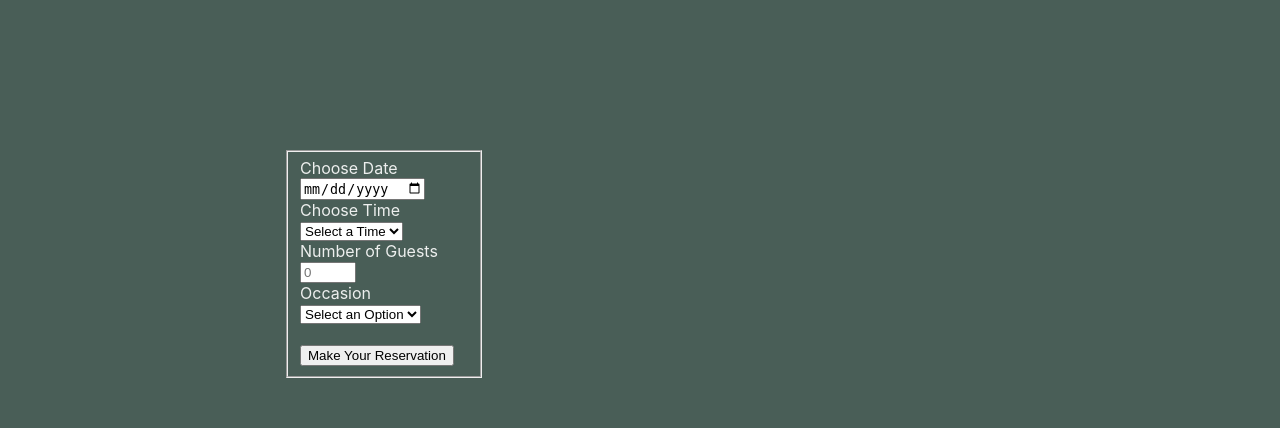
Test: BookingForm Component › handles occasion selection
Select "Birthday" in the dropdown labelled "Occasion" at (360,314), box [300,305,421,324]
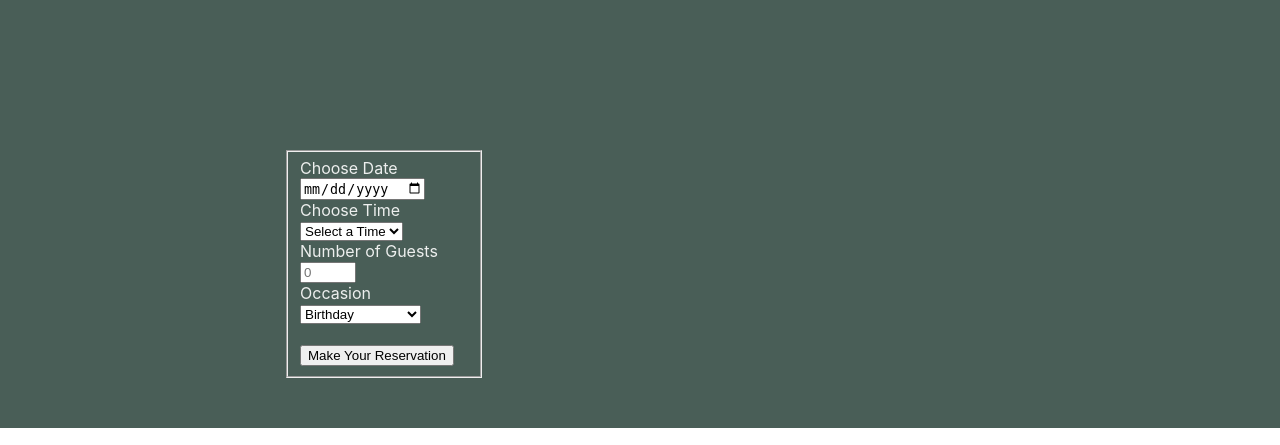
Expected: the dropdown labelled "Occasion" shows "Birthday", [300,305,421,324]
